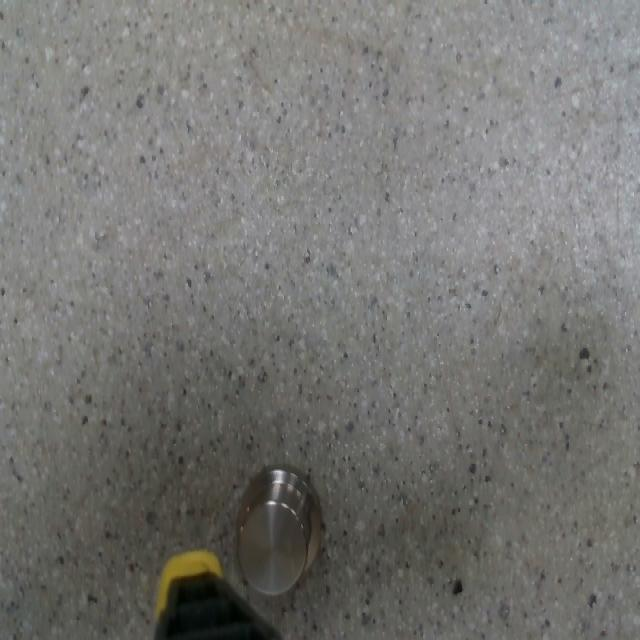sensor: (234, 463, 323, 597)
